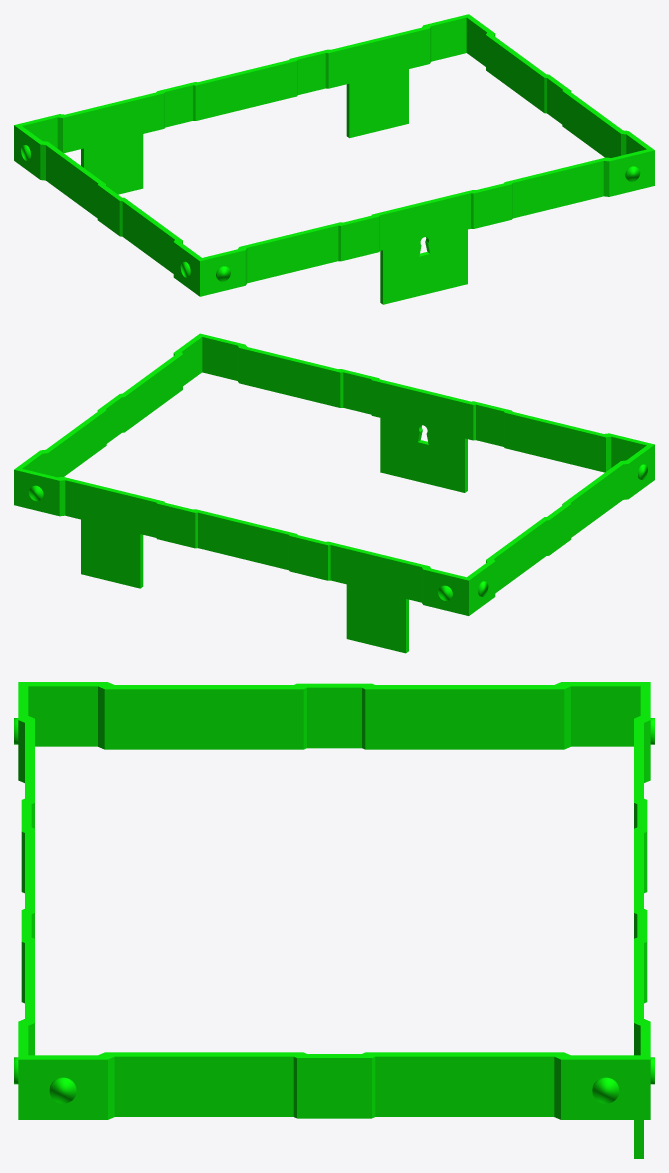
Rendered from original-3.obj.
The picture shows the model from 3 angles, top to bottom: view 1: azimuth 30°, elevation 25°; view 2: azimuth 150°, elevation 25°; view 3: azimuth 270°, elevation 25°; orthographic projection. The views are drawn at different scales.
Visible parts, largest first — view 1: mesh1/mesh1-geometry#mesh1-geometry; view 2: mesh1/mesh1-geometry#mesh1-geometry; view 3: mesh1/mesh1-geometry#mesh1-geometry.
Part boxes in pixels (bbox=[...]): mesh1/mesh1-geometry#mesh1-geometry: bbox=[14, 14, 654, 304]; mesh1/mesh1-geometry#mesh1-geometry: bbox=[14, 333, 654, 653]; mesh1/mesh1-geometry#mesh1-geometry: bbox=[14, 682, 654, 1158].
Size of the model in its own units: 1.12 by 0.2101 by 0.7965.
